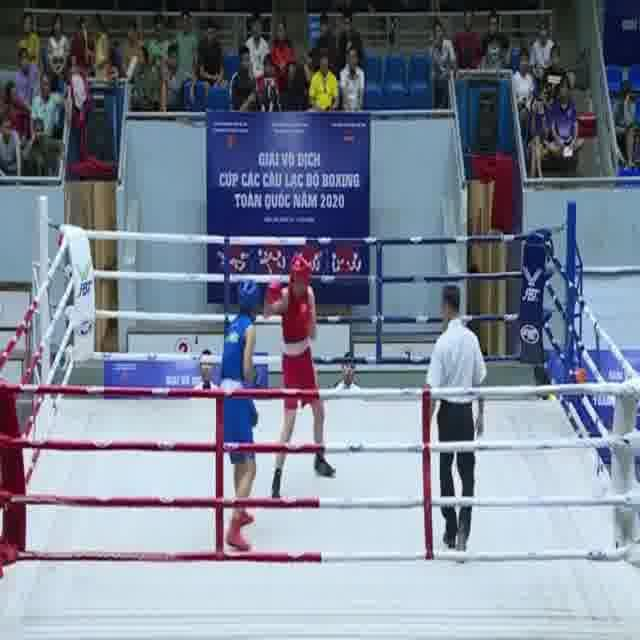blue-player: (217, 277, 268, 556)
red-player: (263, 249, 339, 501)
referee: (420, 281, 489, 563)
